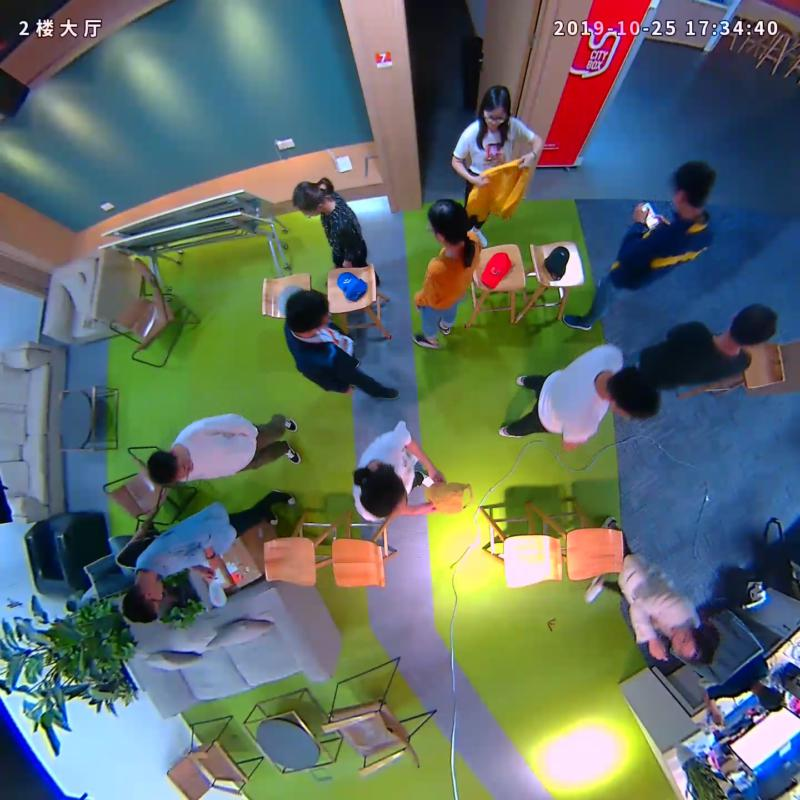head: (600, 363, 665, 424), (665, 159, 724, 219), (350, 463, 406, 523), (724, 298, 784, 353), (422, 192, 476, 251), (278, 284, 332, 336), (115, 581, 163, 632), (471, 81, 516, 132), (288, 174, 339, 219), (142, 446, 194, 490)
